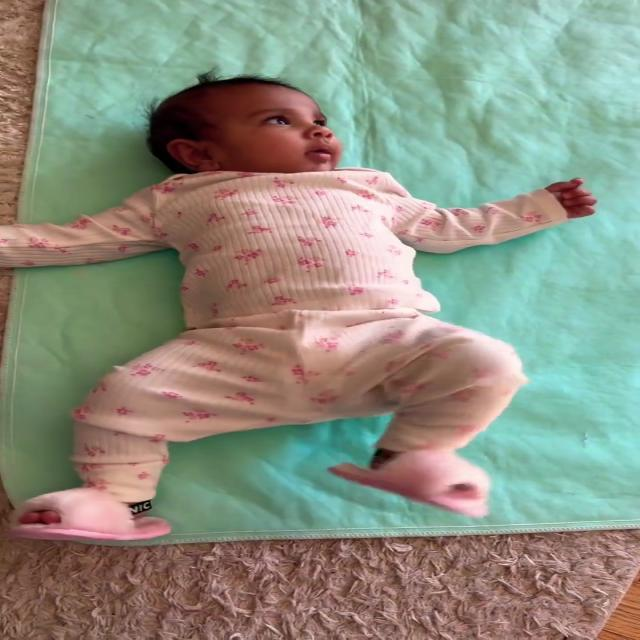baby: (0, 76, 603, 552)
